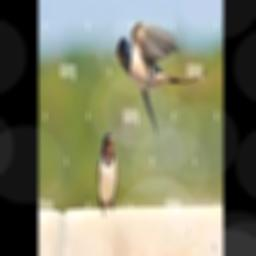Swallow: (116, 23, 207, 136), (98, 133, 118, 214)
